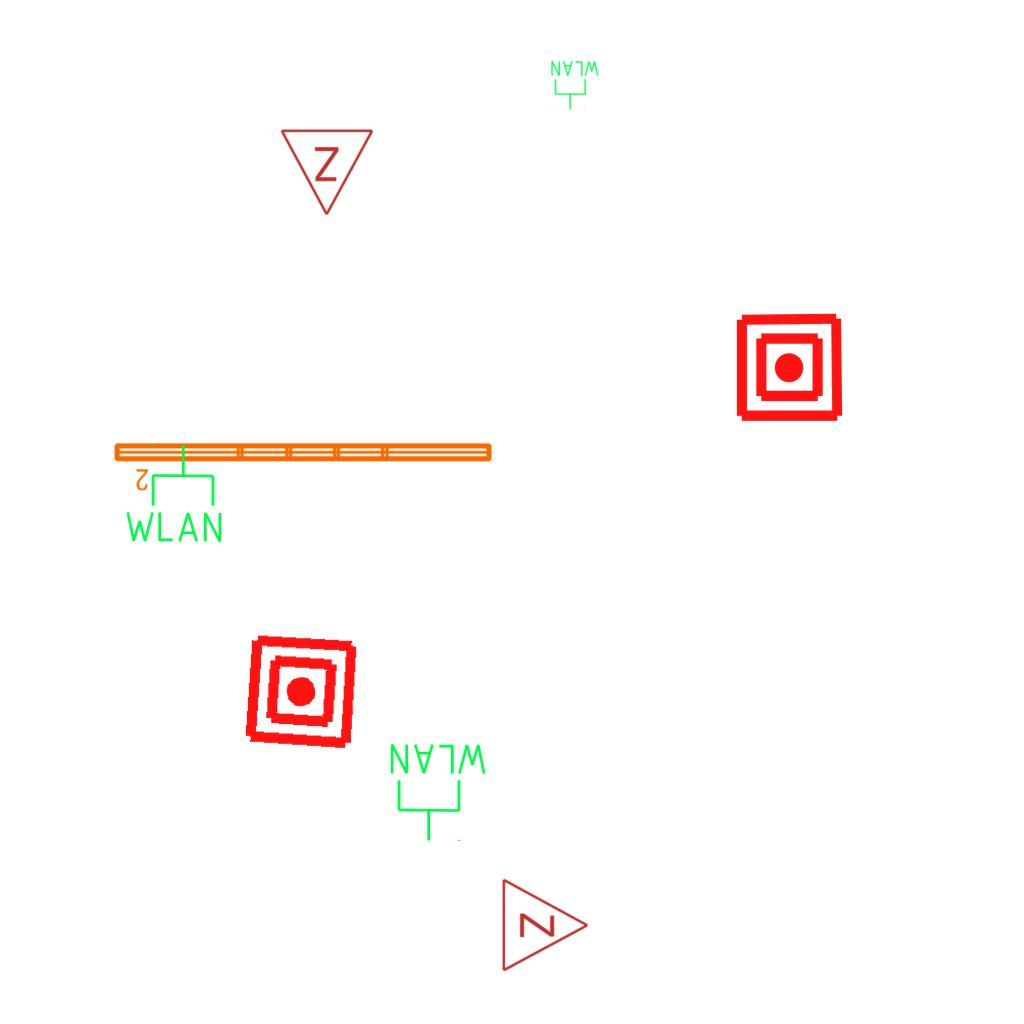Ambulanz_Pendelleuchte_LED: (110, 437, 497, 493)
NAM-Nichtautomatischer_Melder: (241, 631, 362, 752), (733, 311, 846, 424)
WLAN: (386, 740, 491, 844), (121, 442, 226, 546), (549, 59, 601, 111)
Zimmersignalleuchte: (495, 875, 595, 973), (279, 122, 377, 222)
